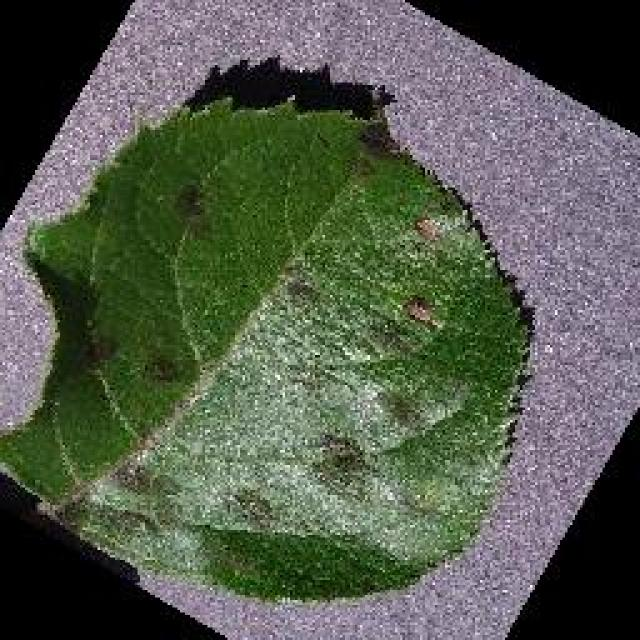apple scab disease: (2, 58, 538, 608)
